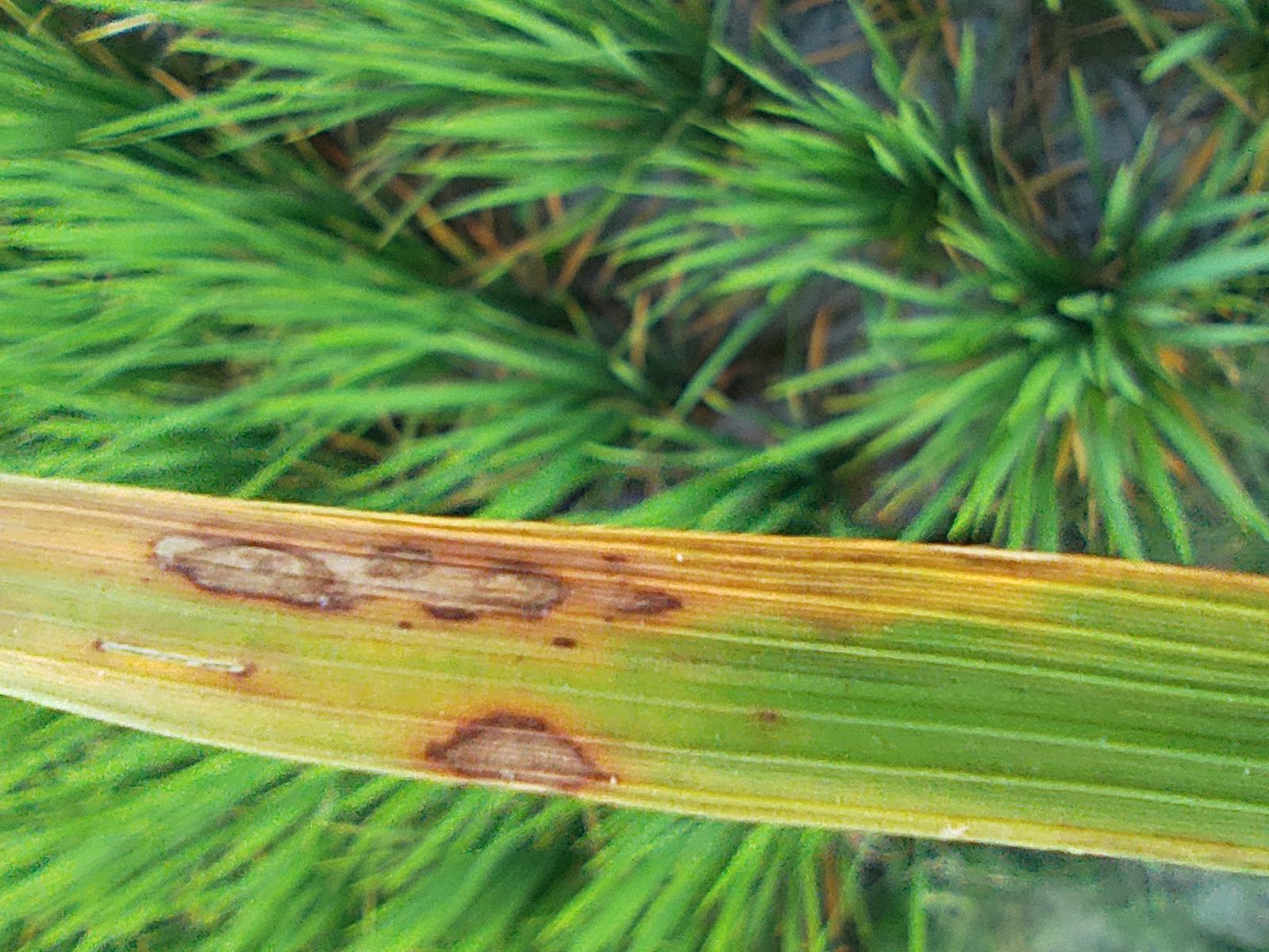LEAF: (0, 475, 1268, 870)
LEAF BLAST: (154, 534, 565, 620), (426, 712, 612, 789), (94, 641, 248, 674), (615, 588, 681, 614)
